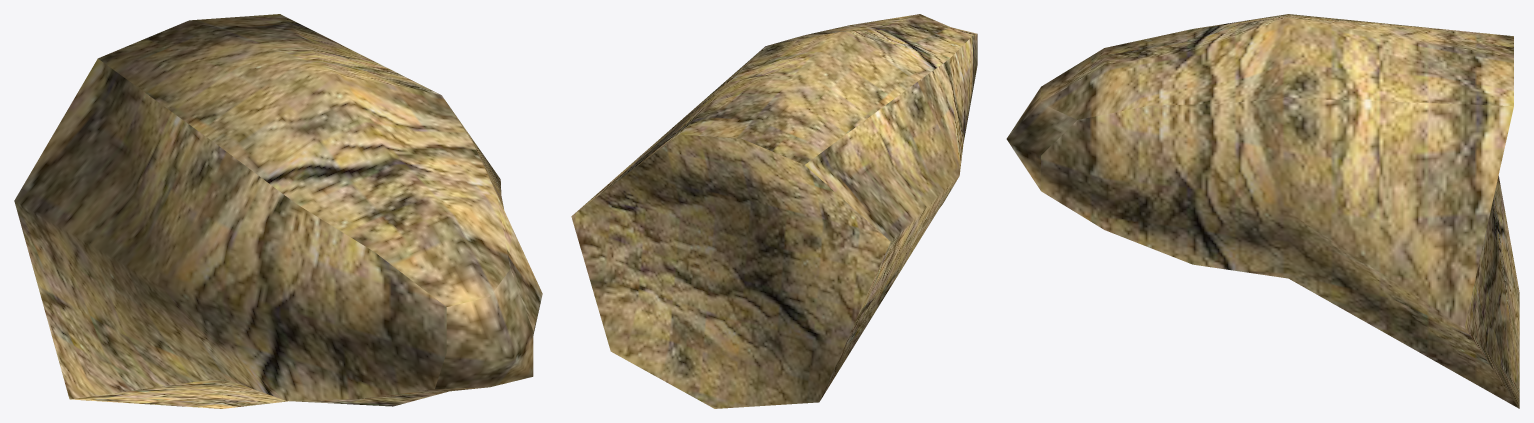
Rendered from stone.obj.
3 renders of one model, left to right at view 1: azimuth 30°, elevation 25°; view 2: azimuth 150°, elevation 25°; view 3: azimuth 270°, elevation 25°, orthographic. The views are drawn at different scales.
Parts seen in each view (by area): view 1: Cube_Cube.001; view 2: Cube_Cube.001; view 3: Cube_Cube.001.
Part boxes in pixels (bbox=[...]): Cube_Cube.001: bbox=[14, 14, 542, 408]; Cube_Cube.001: bbox=[571, 14, 977, 408]; Cube_Cube.001: bbox=[1006, 14, 1519, 408].
Size of the model in its own units: 5.56 by 5.04 by 6.6.
